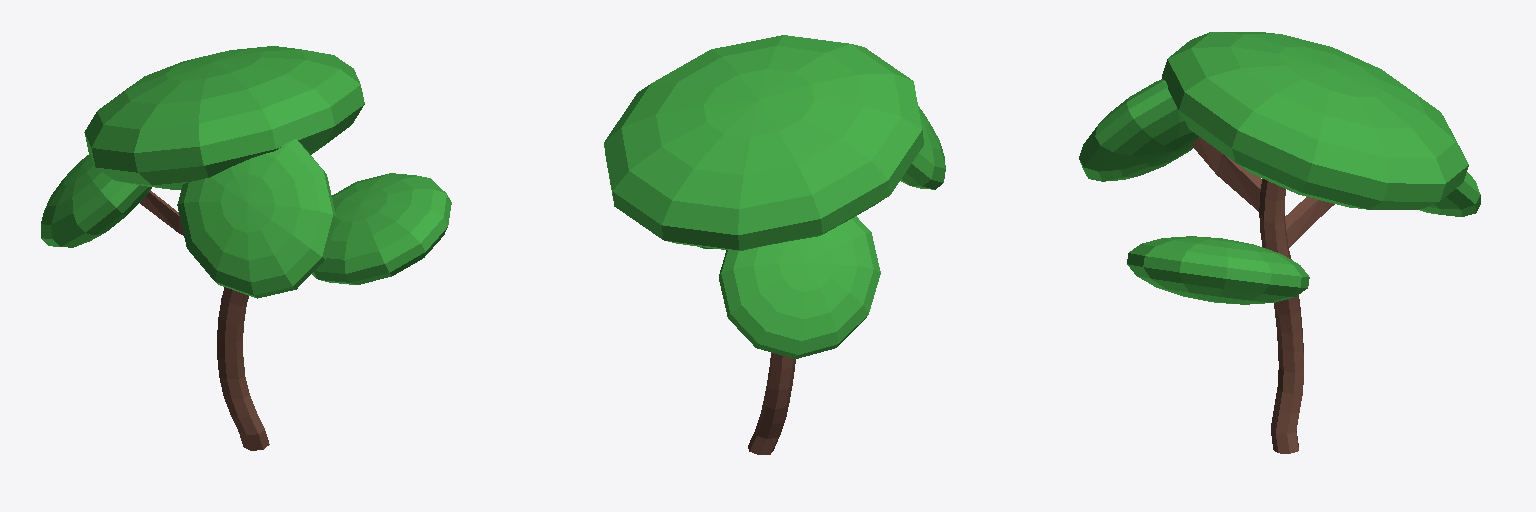
3 views of the same model, side by side, from view 1: azimuth 30°, elevation 25°; view 2: azimuth 150°, elevation 25°; view 3: azimuth 270°, elevation 25° (orthographic).
Visible parts, largest first — view 1: group[number redacted], group[number redacted], group[number redacted], group[number redacted], group[number redacted]; view 2: group[number redacted], group[number redacted], group[number redacted], group[number redacted]; view 3: group[number redacted], group[number redacted], group[number redacted], group[number redacted], group[number redacted].
Boxes of the visible parts, <box> form: group[number redacted]: <box>84,46,364,189</box>; group[number redacted]: <box>177,139,336,298</box>; group[number redacted]: <box>312,173,451,284</box>; group[number redacted]: <box>41,154,151,247</box>; group[number redacted]: <box>140,190,269,450</box>; group[number redacted]: <box>604,35,923,250</box>; group[number redacted]: <box>719,216,880,358</box>; group[number redacted]: <box>748,353,795,454</box>; group[number redacted]: <box>900,106,945,189</box>; group[number redacted]: <box>1162,32,1468,209</box>; group[number redacted]: <box>1127,236,1309,304</box>; group[number redacted]: <box>1191,137,1334,453</box>; group[number redacted]: <box>1079,79,1198,181</box>; group[number redacted]: <box>1420,172,1480,216</box>.
Size of the model in its own units: 0.9073 by 1.1 by 1.04.